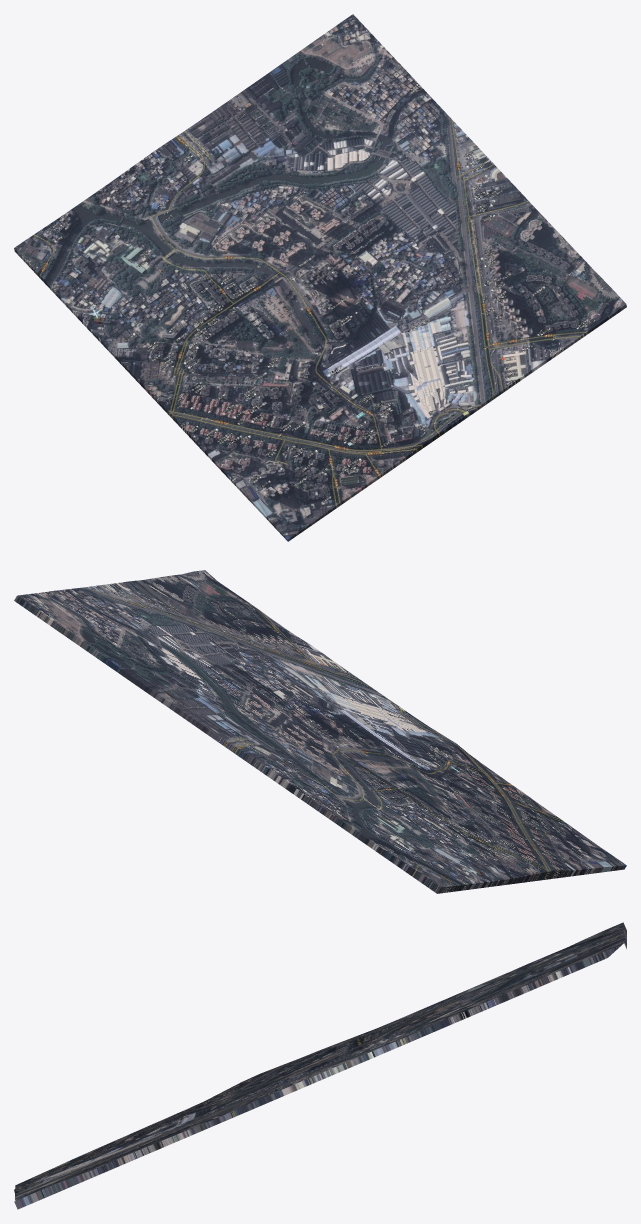
3 renders of one model, top to bottom at view 1: azimuth 30°, elevation 25°; view 2: azimuth 150°, elevation 25°; view 3: azimuth 270°, elevation 25°, orthographic. The views are drawn at different scales.
Parts seen in each view (by area): view 1: 1_6_0; view 2: 1_6_0; view 3: 1_6_0.
Boxes of the visible parts, left/top/right/bottom form: 1_6_0: left=14, top=14, right=626, bottom=541; 1_6_0: left=14, top=570, right=626, bottom=893; 1_6_0: left=14, top=922, right=626, bottom=1209.
Size of the model in its own units: 1229 by 894 by 1126.
1 material, 1 textured.
